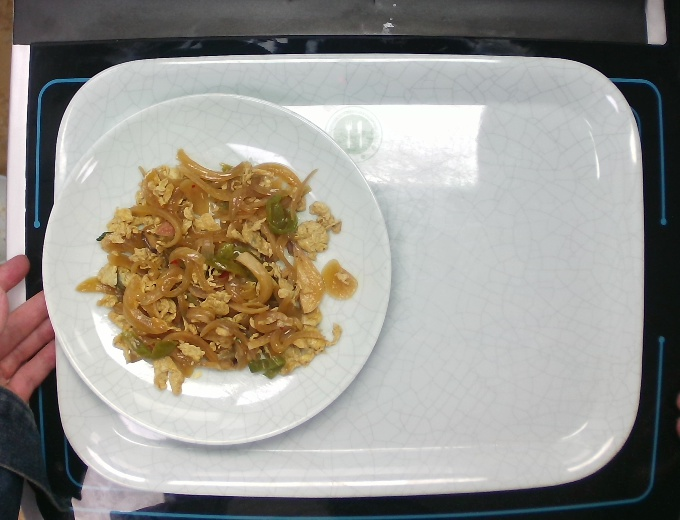JYsf-Da_Yuan_Pan: (39, 90, 395, 447)
